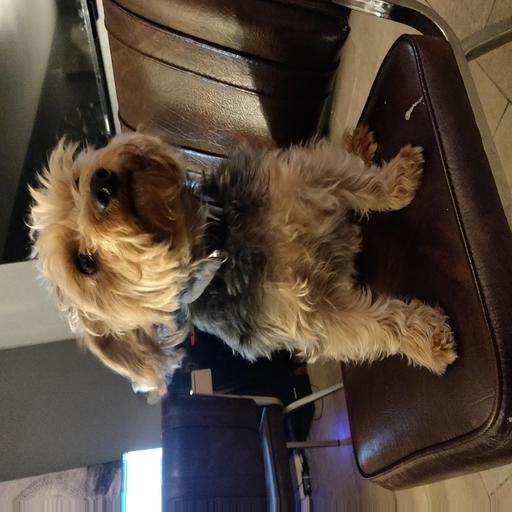dog: (39, 90, 366, 417)
